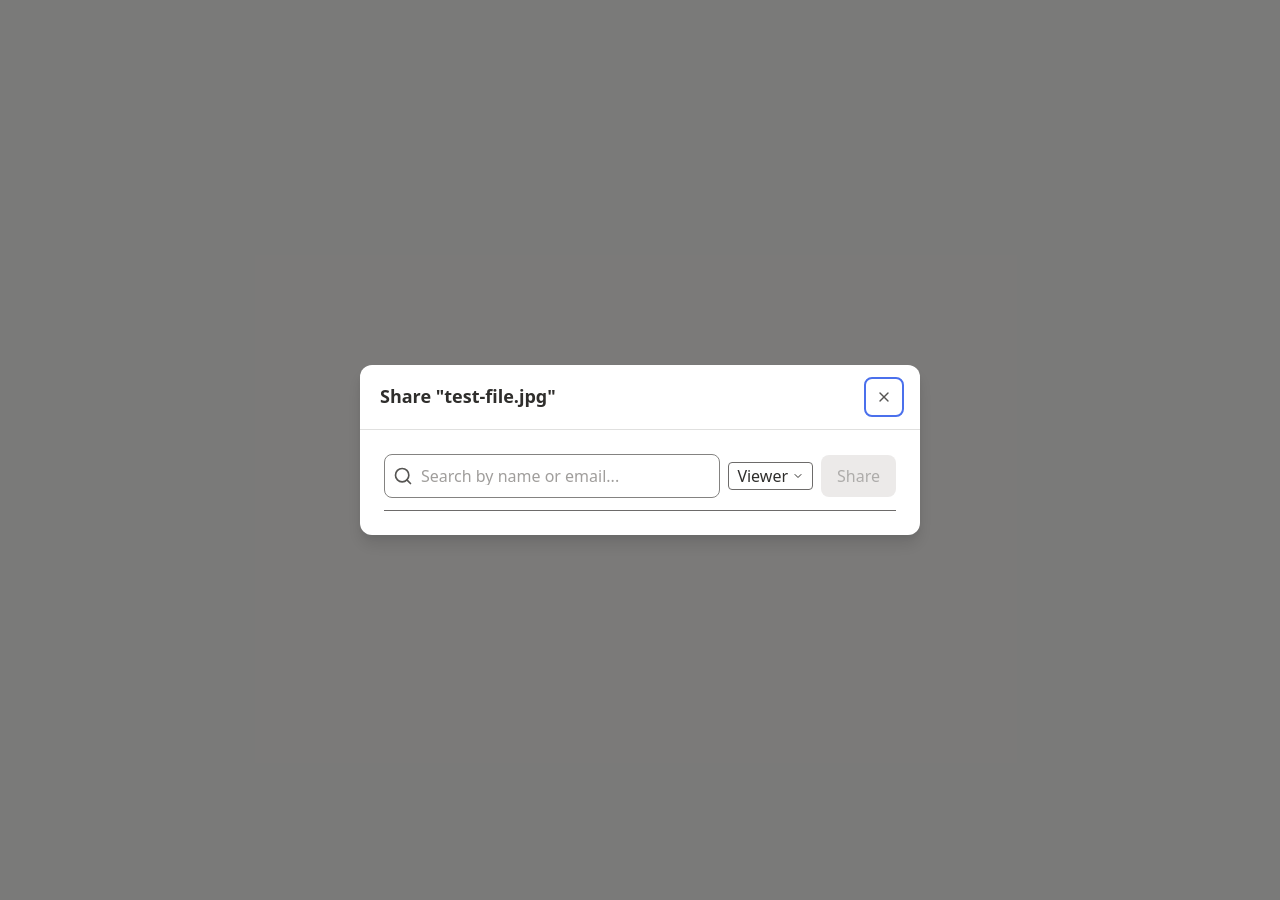
Test: ShareDialog › add flow › clicking a result stages the user and enables Share
Type "carol" into the dropdown with placeholder "Search by name or email...".
click(566, 476); type("carol")  # box [421,467,711,485]
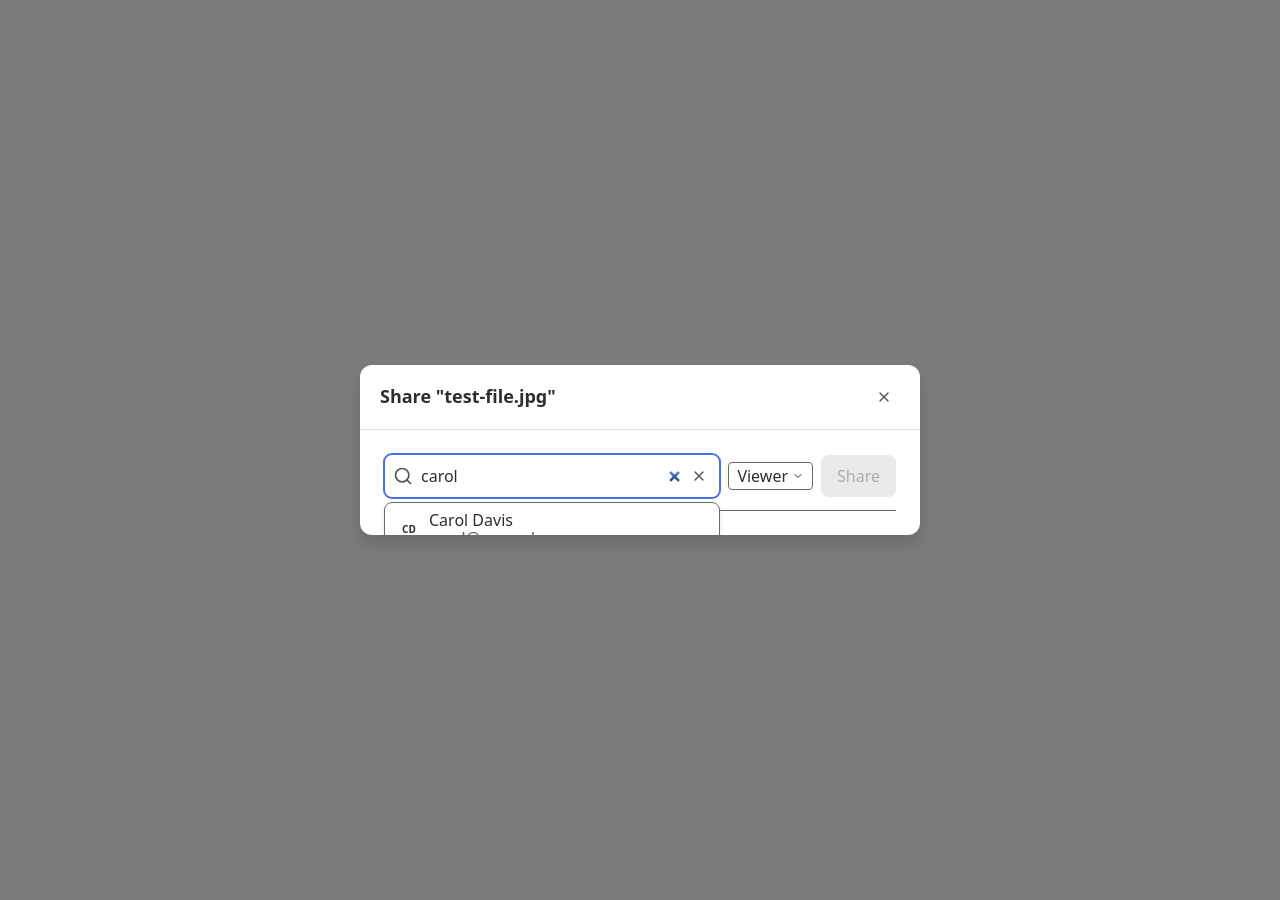
Now the text "Carol Davis" is shown
Click the text "Carol Davis".
click(471, 520)  # box [429,509,513,531]
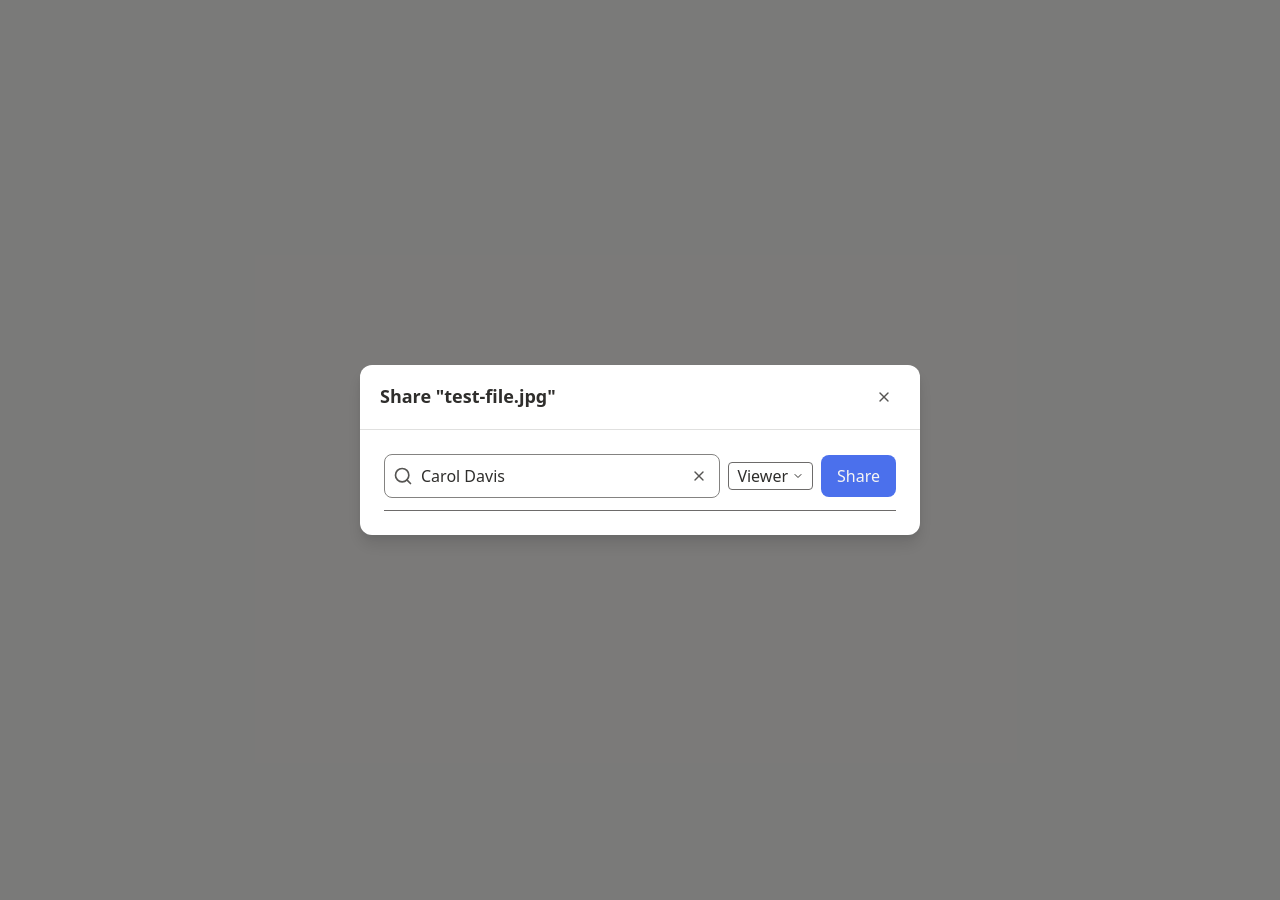
Now the button "Share" is enabled, box [821,455,896,497]
